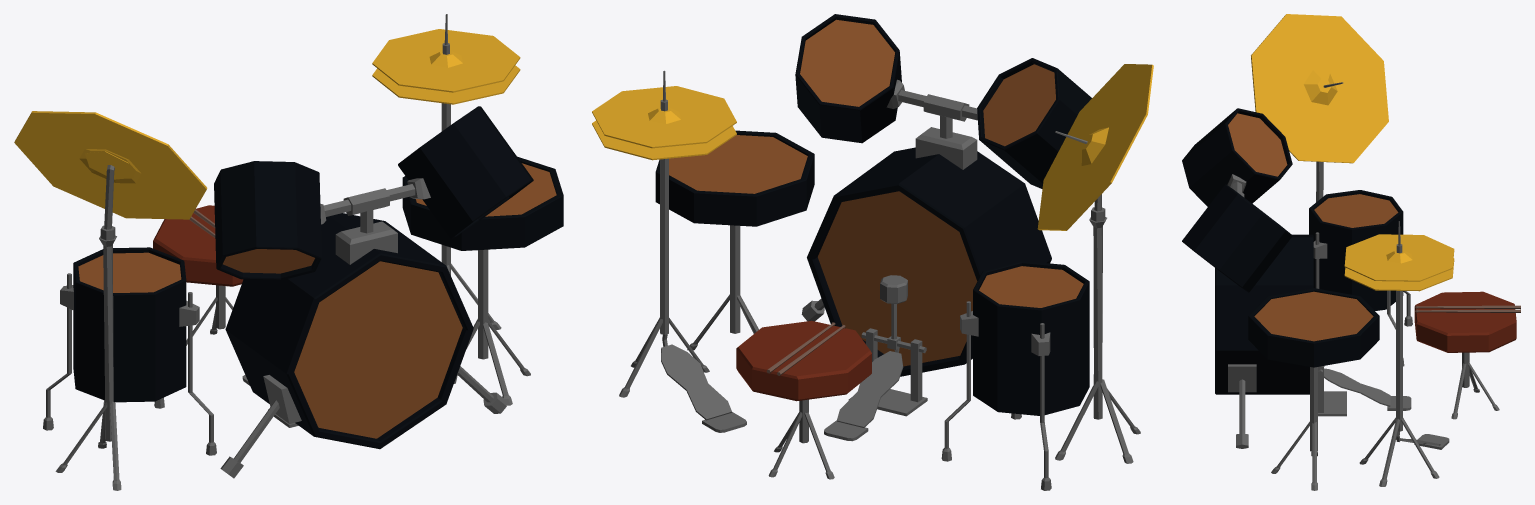
The model's file is DrumSet1.glb.
3 renders of one model, left to right at view 1: azimuth 30°, elevation 25°; view 2: azimuth 150°, elevation 25°; view 3: azimuth 270°, elevation 25°, orthographic. The views are drawn at different scales.
Parts seen in each view (by area): view 1: DrumSet1; view 2: DrumSet1; view 3: DrumSet1.
Boxes of the visible parts, x1,y1,x2,y2 form: DrumSet1: [14, 14, 563, 490]; DrumSet1: [592, 14, 1153, 490]; DrumSet1: [1182, 14, 1520, 490].
Size of the model in its own units: 2.44 by 1.75 by 1.78.
